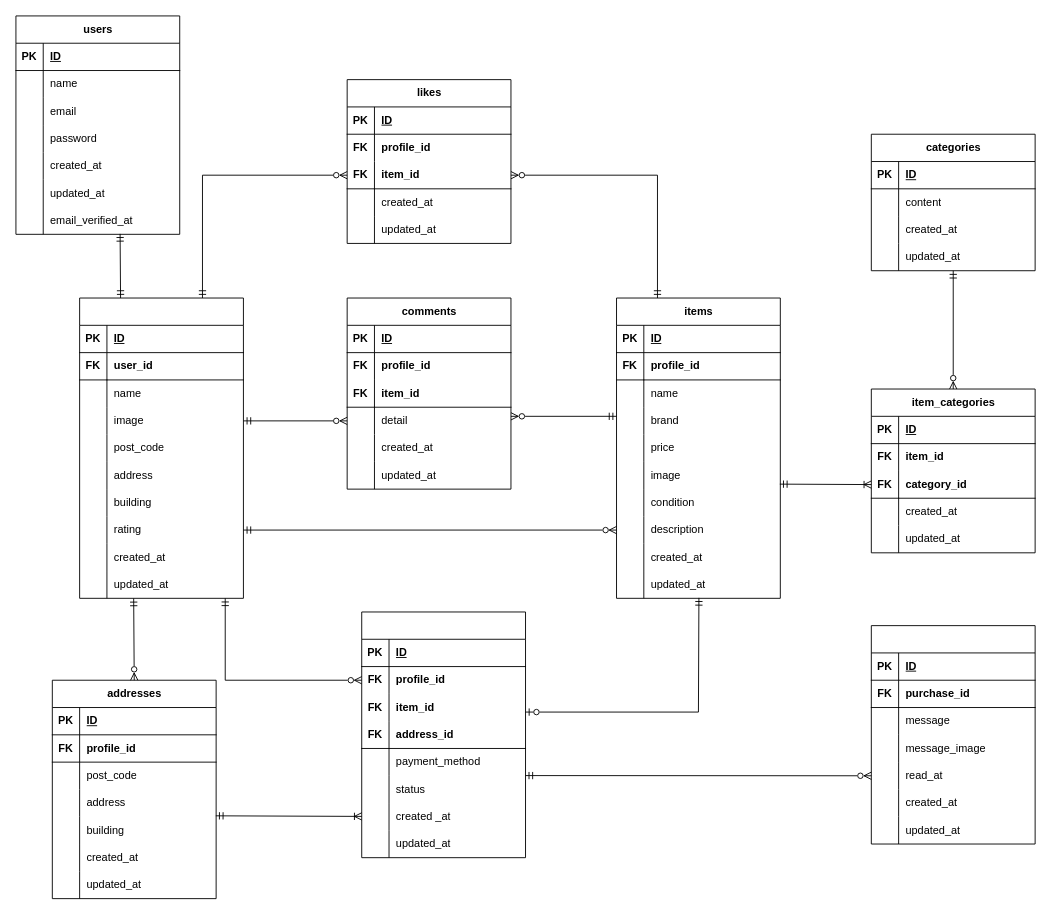
This 1051x915 diagram has some shape labels left out. The shapes that lost their labels are listed below. From the top down, each one's box as (x1, y1, x2, y2) in pixels, then its label:
(79, 297, 243, 598): profiles
(361, 611, 526, 858): purchases
(870, 625, 1035, 844): chats
